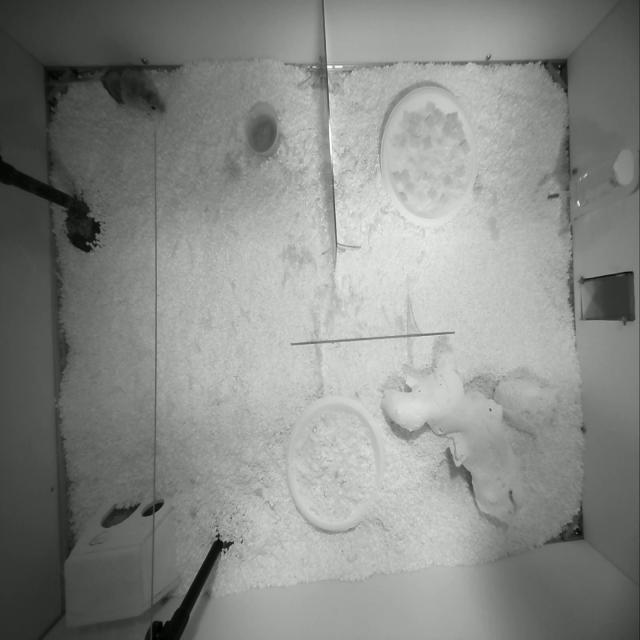adult_back: (55, 68, 165, 114)
